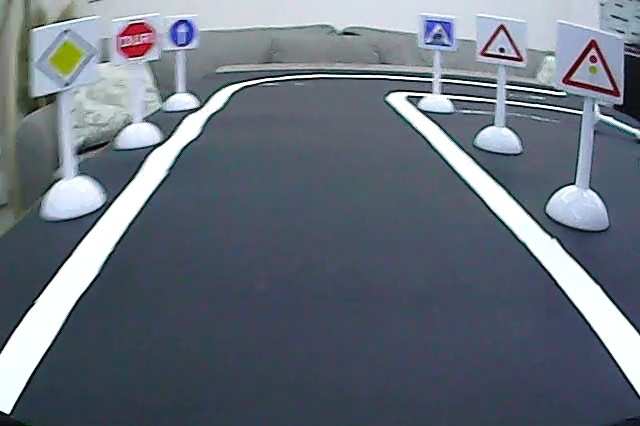green light: (476, 21, 525, 64)
red light: (559, 33, 625, 105)
school crossing: (421, 18, 456, 50)
stop sign: (115, 19, 156, 61)
